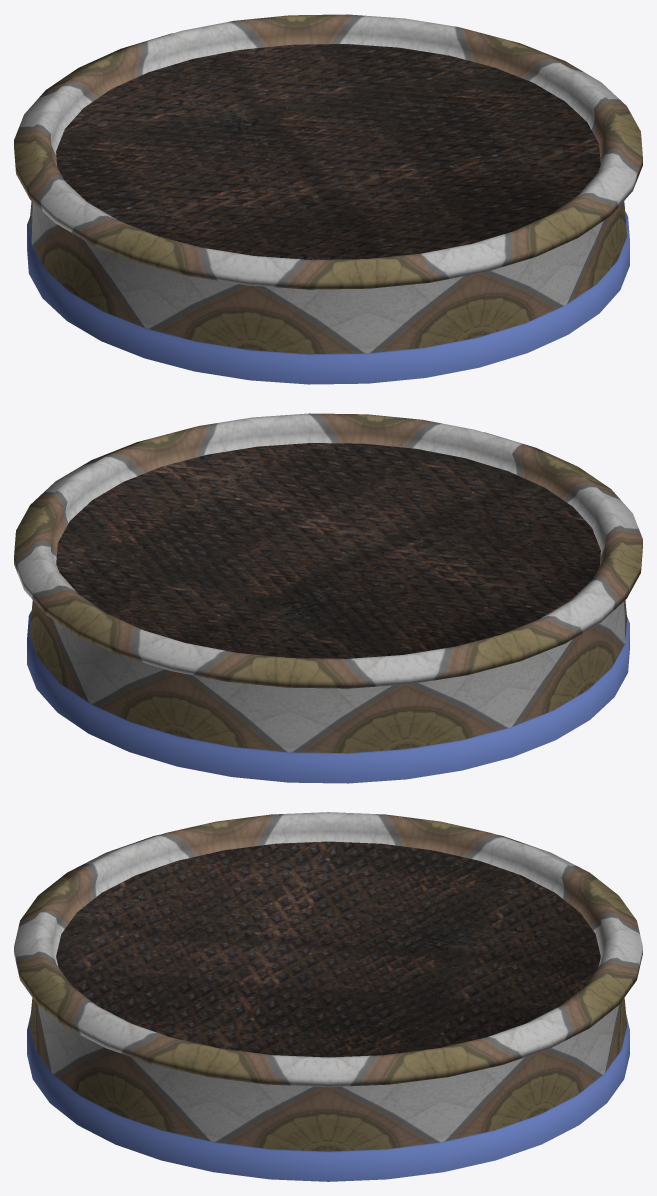
File: Circular Base 02.fbx
3 renders of one model, top to bottom at view 1: azimuth 30°, elevation 25°; view 2: azimuth 150°, elevation 25°; view 3: azimuth 270°, elevation 25°, orthographic.
Parts seen in each view (by area): view 1: Cylinder; view 2: Cylinder; view 3: Cylinder.
Boxes of the visible parts, <box> form: Cylinder: <box>14,14,642,384</box>; Cylinder: <box>14,413,642,783</box>; Cylinder: <box>14,812,642,1181</box>.
Bounding box in the file's own units: 694 × 144 × 694.
